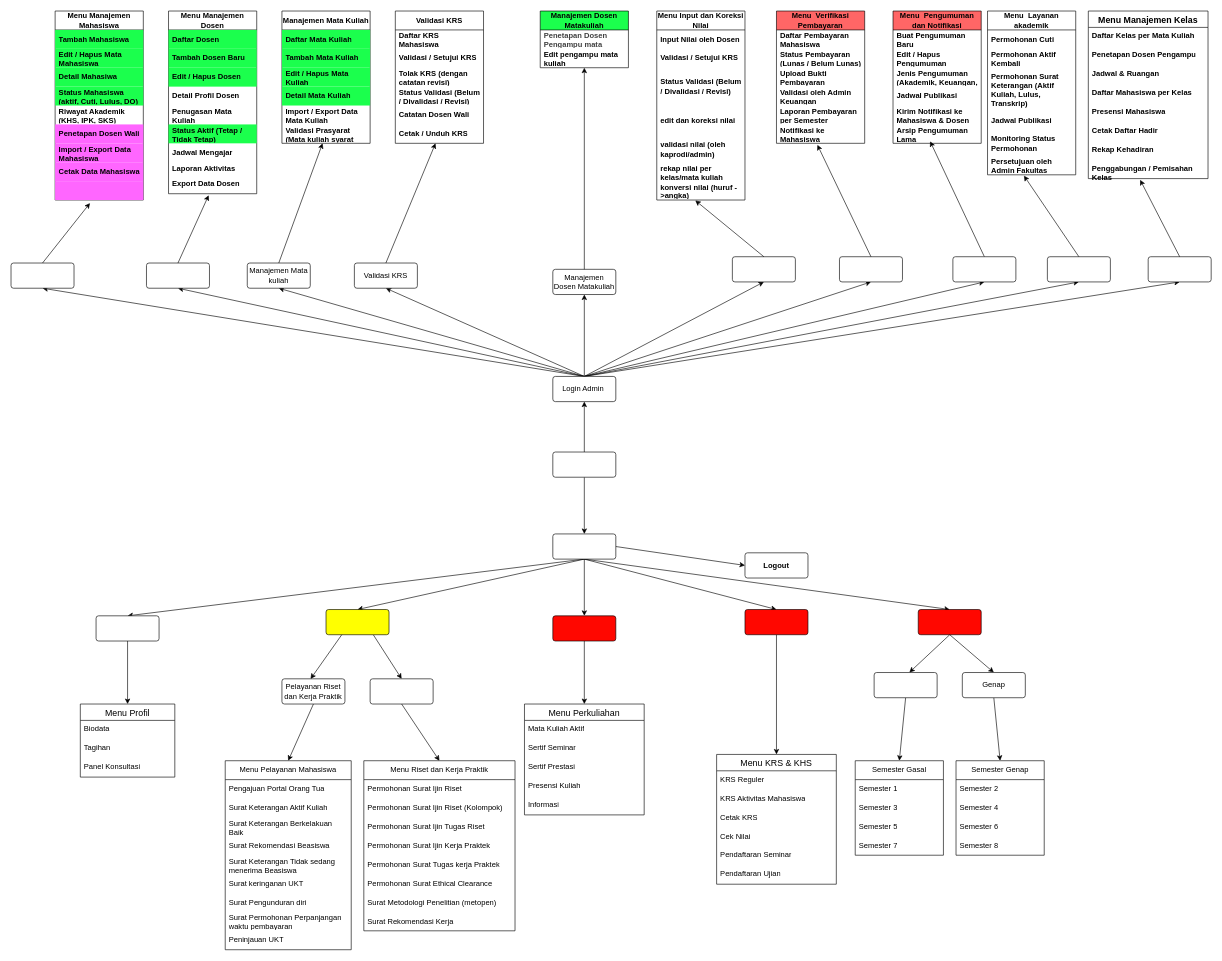
The diagram is 1222 pixels wide and 961 high, and some of its shapes have lost their labels. The shapes that lost their labels are listed below. From the top down, each one's centre as x and y in pixels, then its label:
pixel 99 190: Daftar Mahasiswa
pixel 42 275: Manajemen Mahasiswa
pixel 177 275: Manajemen Dosen
pixel 763 269: Input dan Koreksi Nilai
pixel 870 269: Verivikasi Pembayan
pixel 984 269: Pengumuman dan notifikasi
pixel 1078 269: Layanan akademik
pixel 1179 269: Manajemen Kelas
pixel 584 464: Portal Akademik
pixel 584 546: Login Mahasiswa
pixel 127 628: Profil
pixel 357 622: Pelayanan Online
pixel 584 628: Perkuliahan
pixel 776 622: KRS & KHS
pixel 949 622: Mata Kuliah
pixel 401 691: Pelayanan Mahasiswa
pixel 905 685: Gasal
